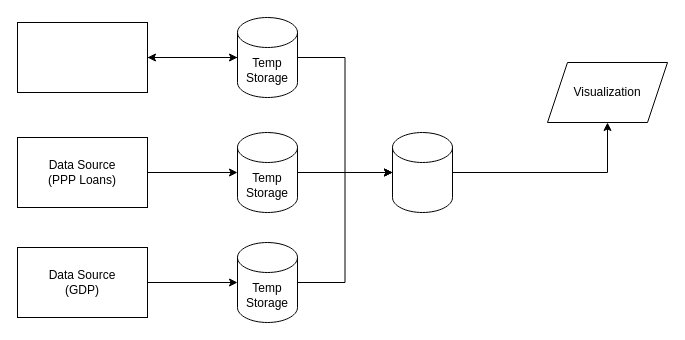
This 685x340 diagram has some shape labels left out. The centre of each missing label's shape, as x and y in pixels:
Data Mart: pixel 422 172
Data Source (NAICS Codes): pixel 82 57
